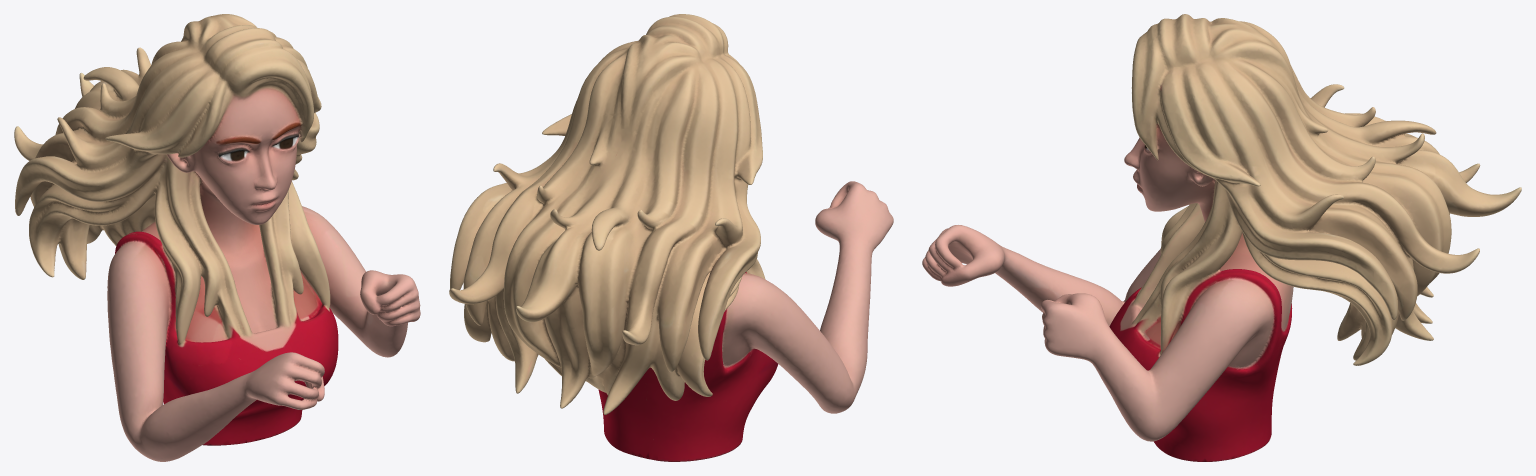
Rendered from models_pilots_blonde.glb.
3 renders of one model, left to right at view 1: azimuth 30°, elevation 25°; view 2: azimuth 150°, elevation 25°; view 3: azimuth 270°, elevation 25°, orthographic. The views are drawn at different scales.
Size of the model in its own units: 1.06 by 1.44 by 1.9.
Materials: 1 (1 with a texture image).
